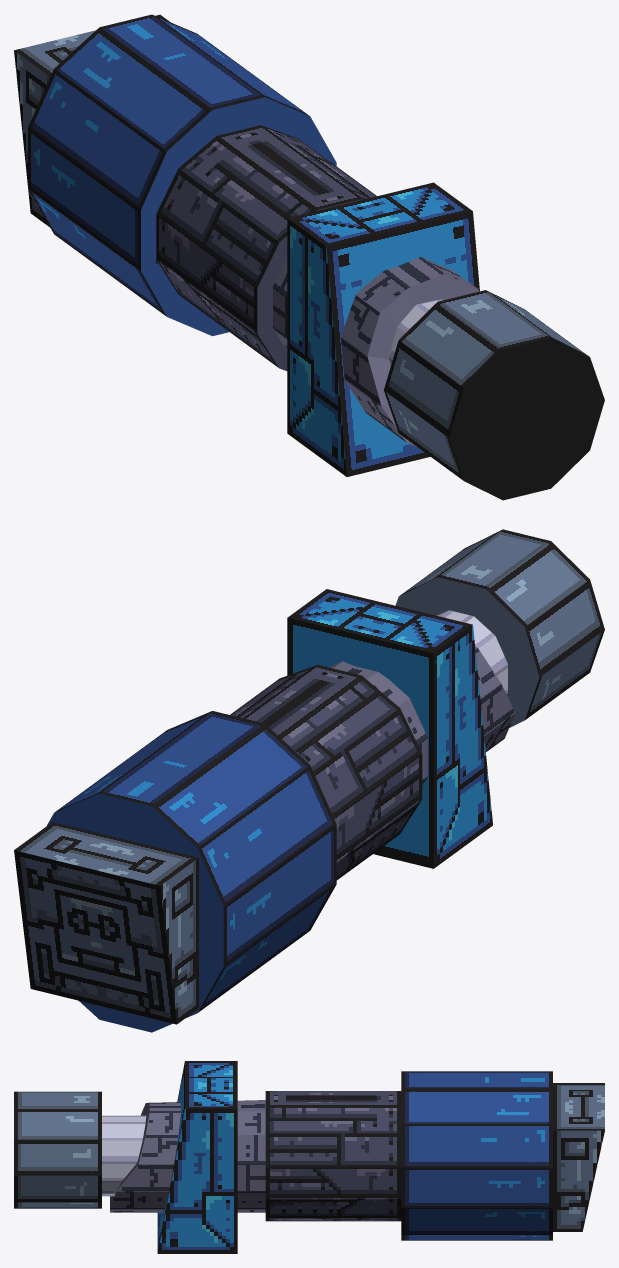
The model's file is ThyKingdomCome.gltf.
3 views of the same model, one above another, from view 1: azimuth 30°, elevation 25°; view 2: azimuth 150°, elevation 25°; view 3: azimuth 270°, elevation 25° (orthographic). The views are drawn at different scales.
Visible parts, largest first — view 1: cylinder (×5), cuboid (×2); view 2: cylinder (×5), cuboid (×2); view 3: cylinder (×5), cuboid (×2).
Boxes of the visible parts, x1=… form: cylinder (×5): x1=28, y1=14, x2=604, y2=500; cuboid (×2): x1=14, y1=14, x2=479, y2=476; cylinder (×5): x1=47, y1=529, x2=604, y2=1032; cuboid (×2): x1=14, y1=589, x2=492, y2=1024; cylinder (×5): x1=14, y1=1071, x2=552, y2=1240; cuboid (×2): x1=157, y1=1061, x2=604, y2=1253.
Size of the model in its own units: 0.5938 by 0.6562 by 2.31.
1 material, 1 textured.
